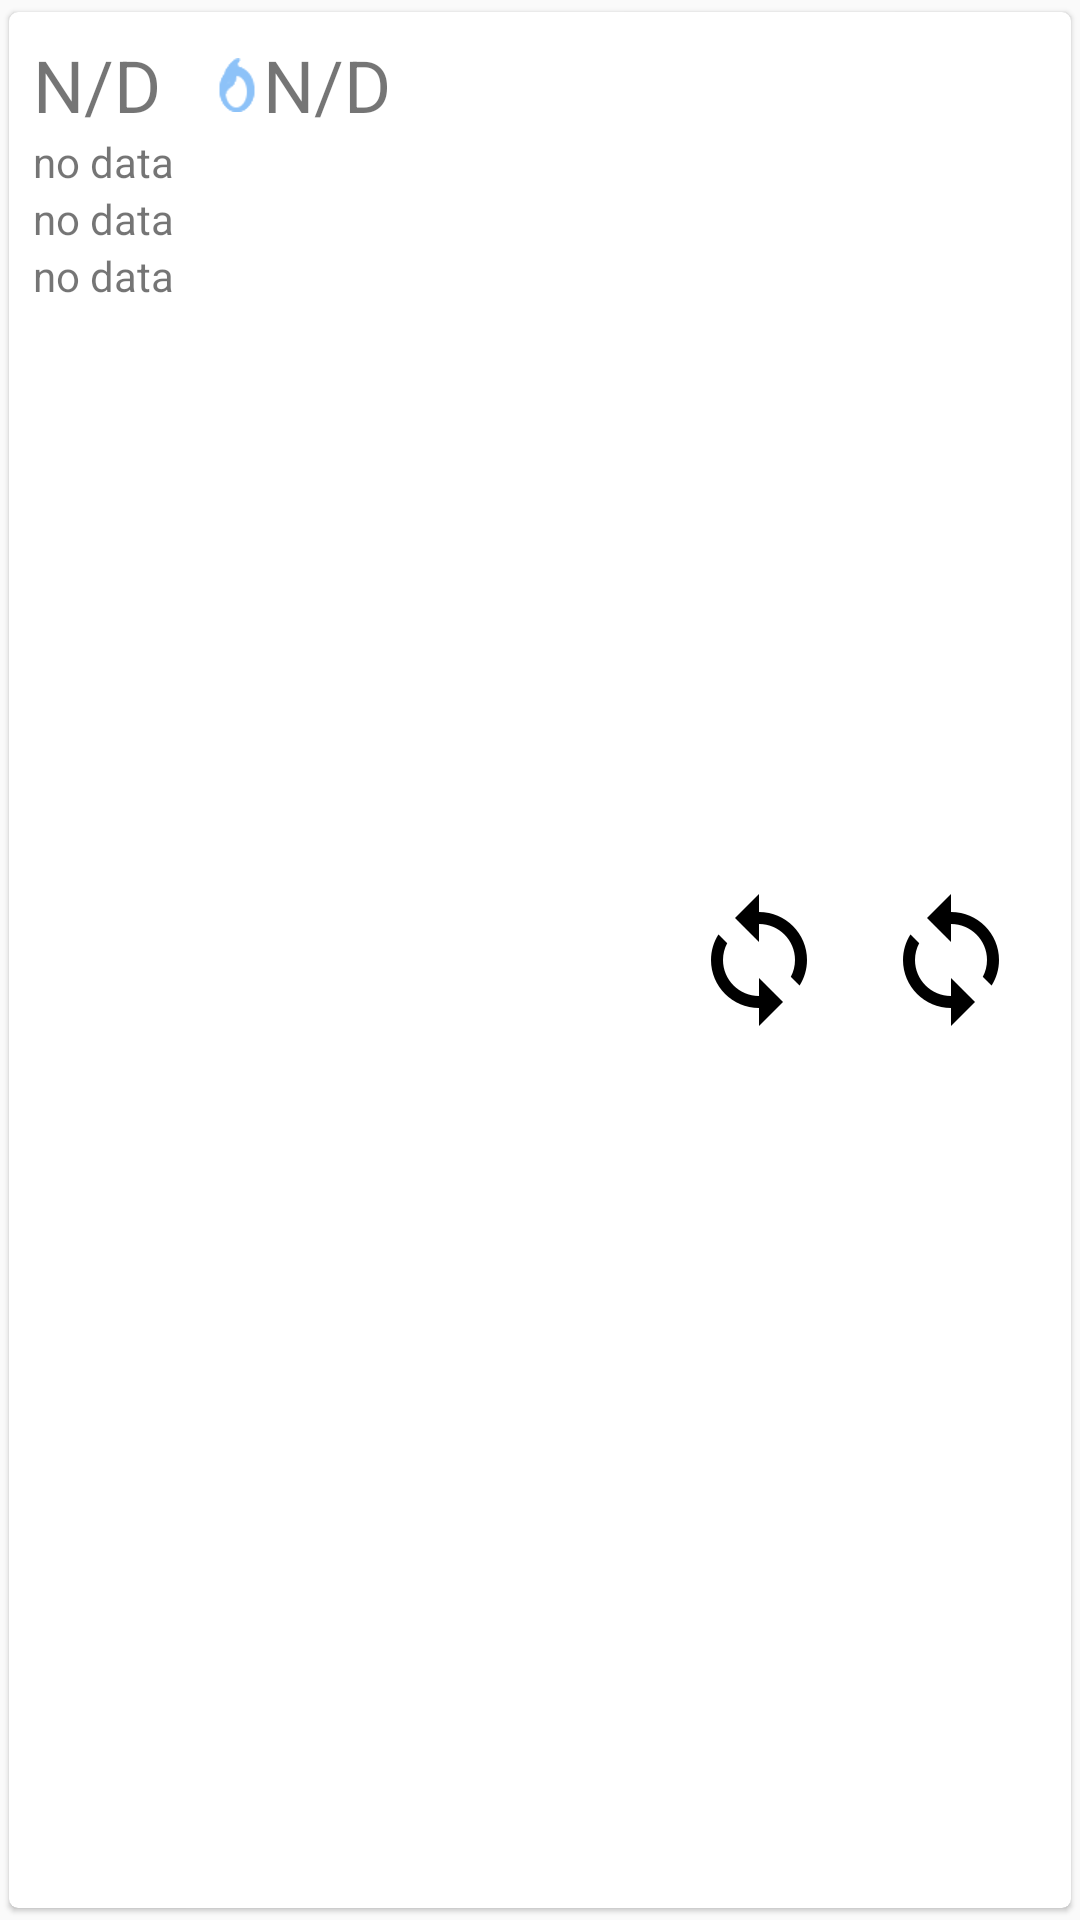

Icon bounding boxes for this 1080px×1920px phone screenshot, format box=[x1, y1, x2, y2]:
sync: box=[711, 894, 807, 1026], box=[903, 894, 999, 1026]
